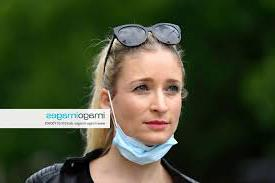mask_weared_incorrect: (114, 74, 182, 154)
